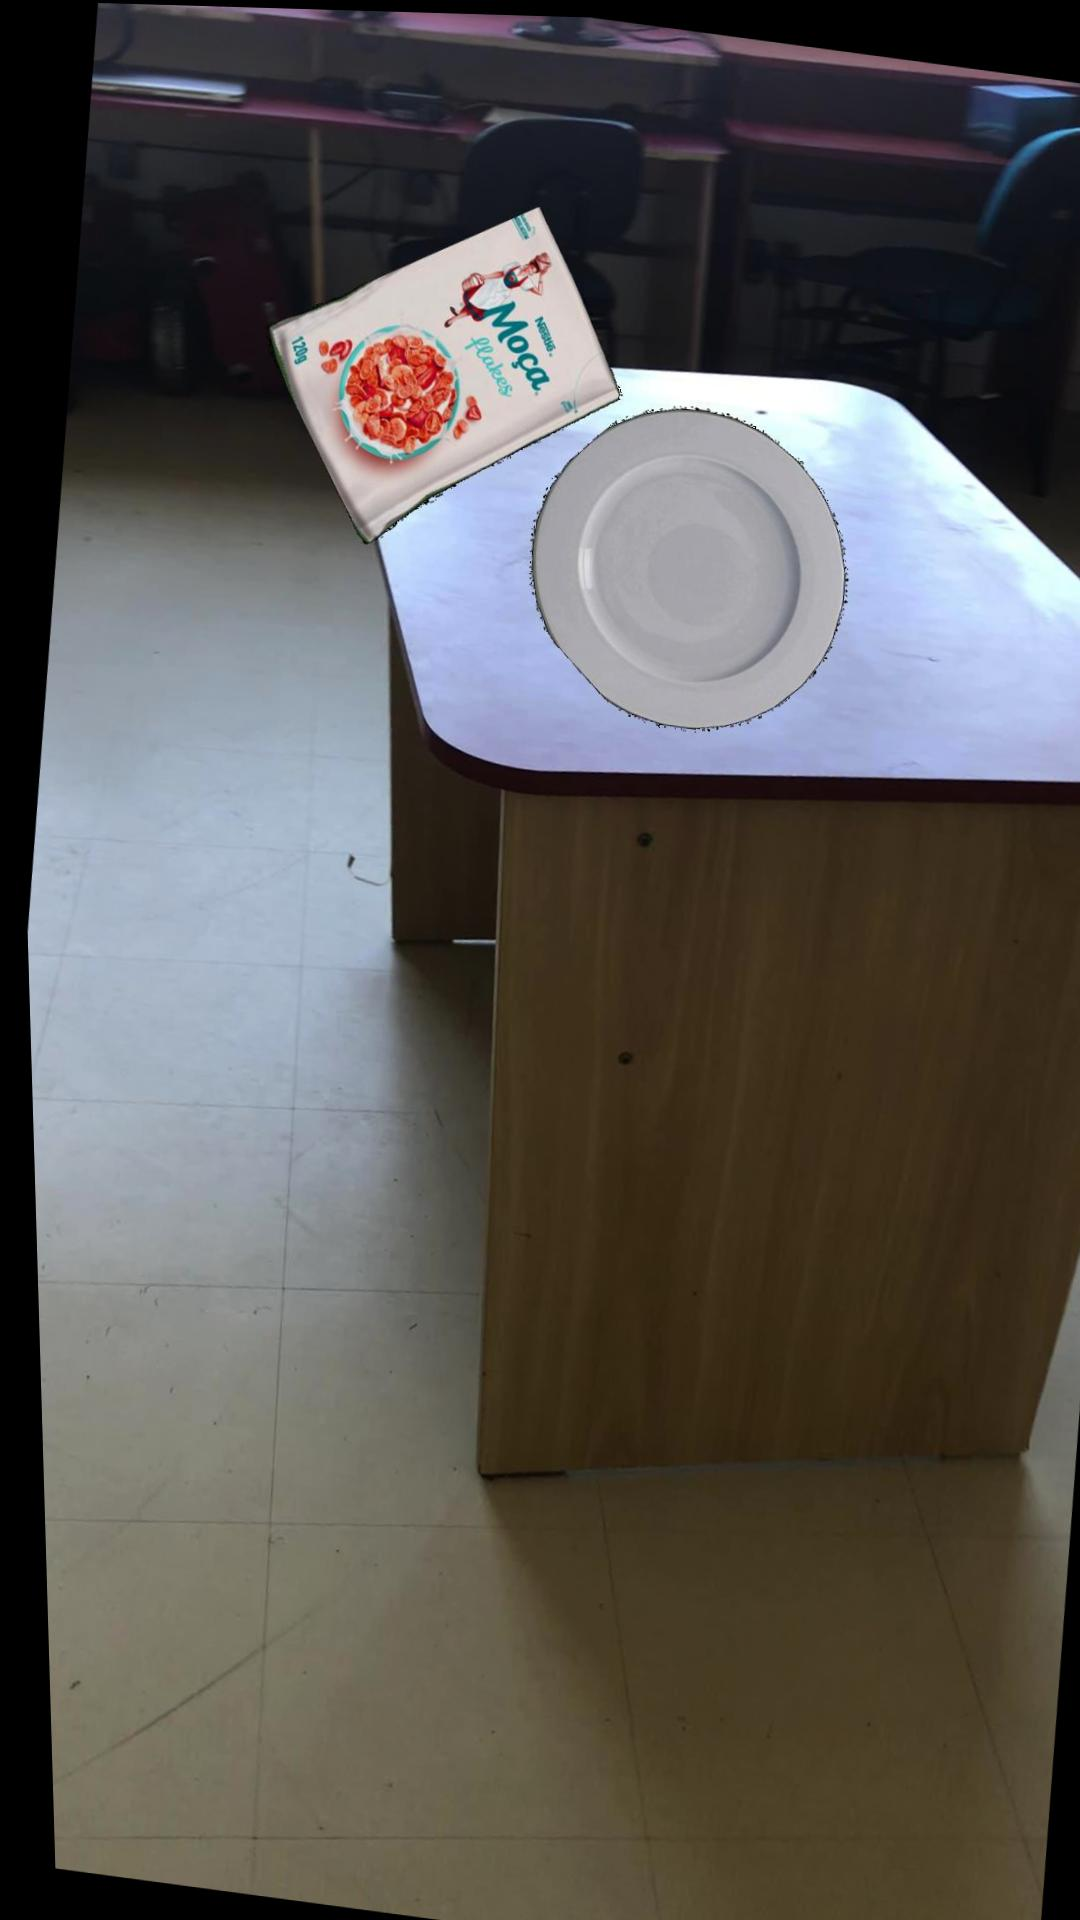corn flakes: (265, 200, 617, 541)
plate: (526, 401, 844, 724)
